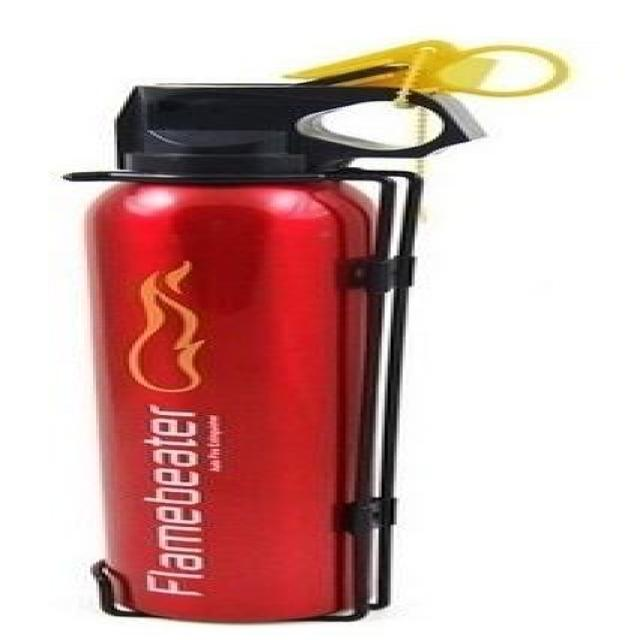fire_extinguisher: (34, 36, 576, 626)
